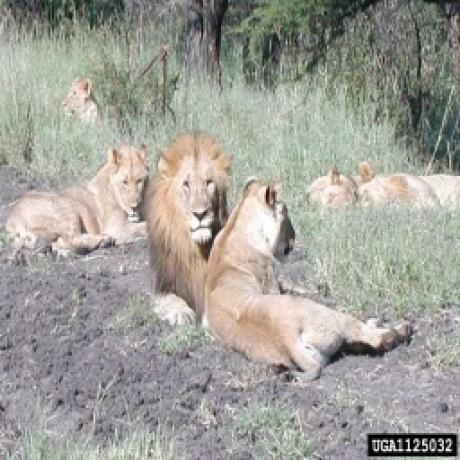Lion: (201, 179, 418, 380), (144, 132, 230, 326), (1, 145, 150, 253)
